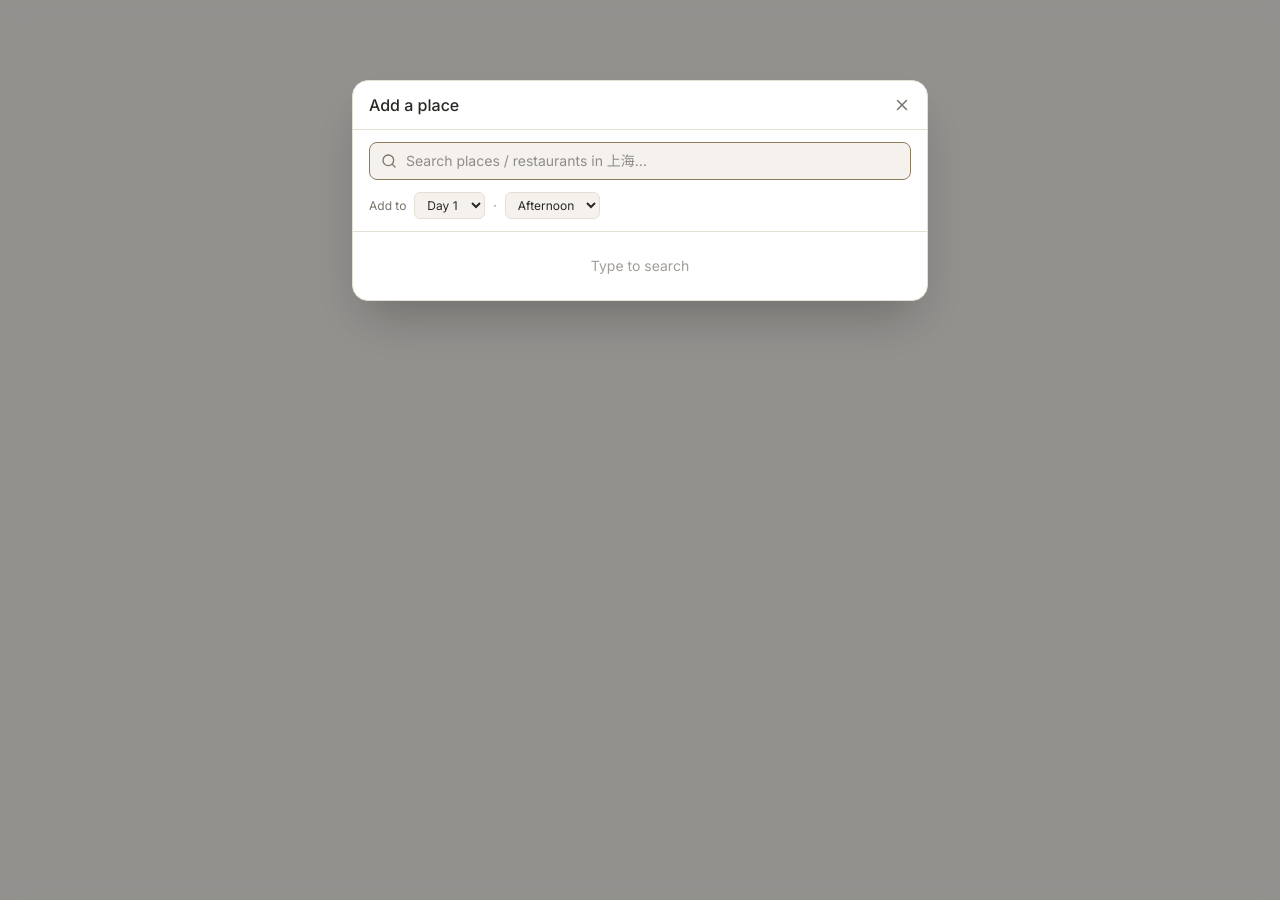
Test case: PlaceSearchModal › shows empty state when results array is empty
Type "xxxx" into the field with test id "search-input" at (640, 161), box [369,142,911,180]
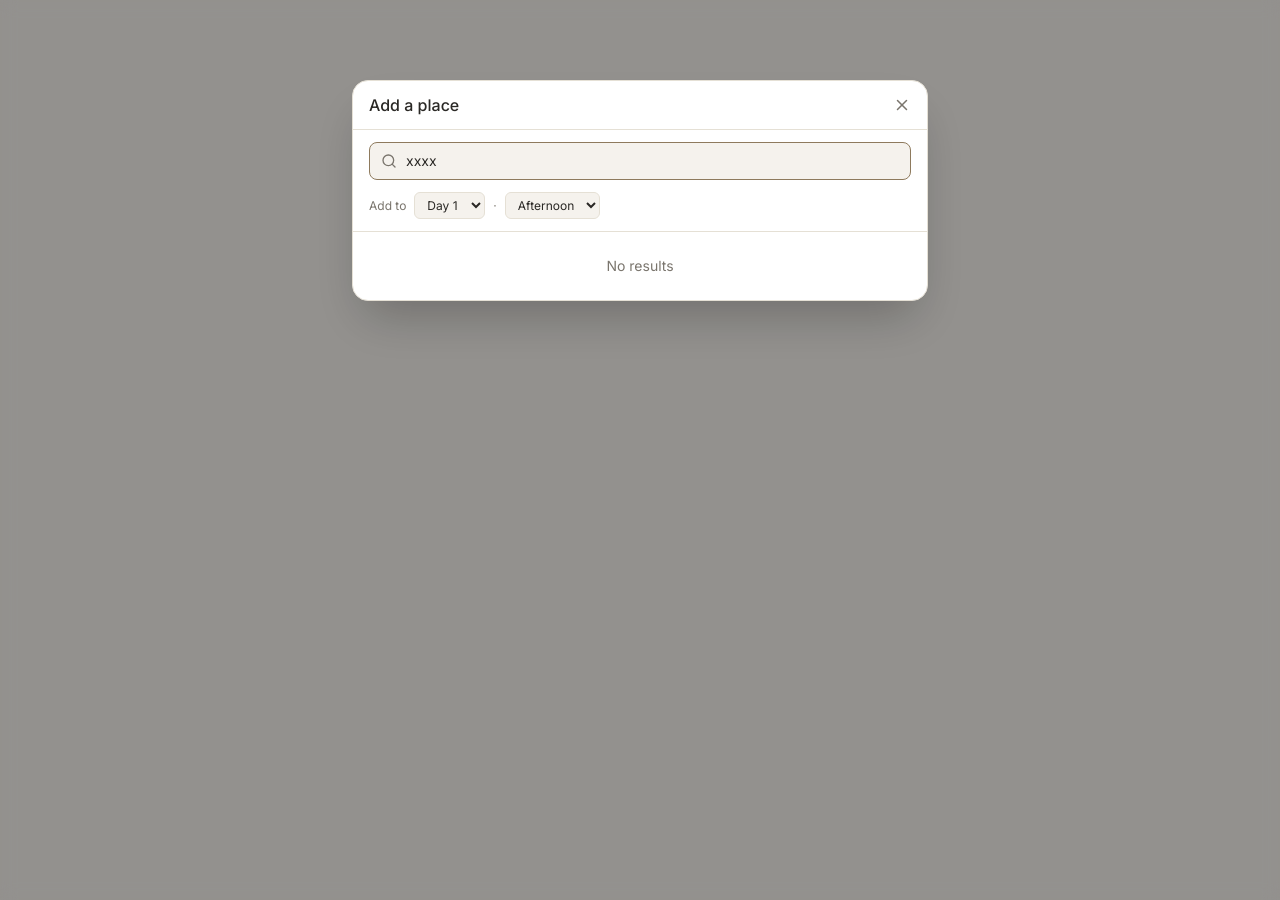
Check: the text "No results" is shown, box [606,257,674,274]
